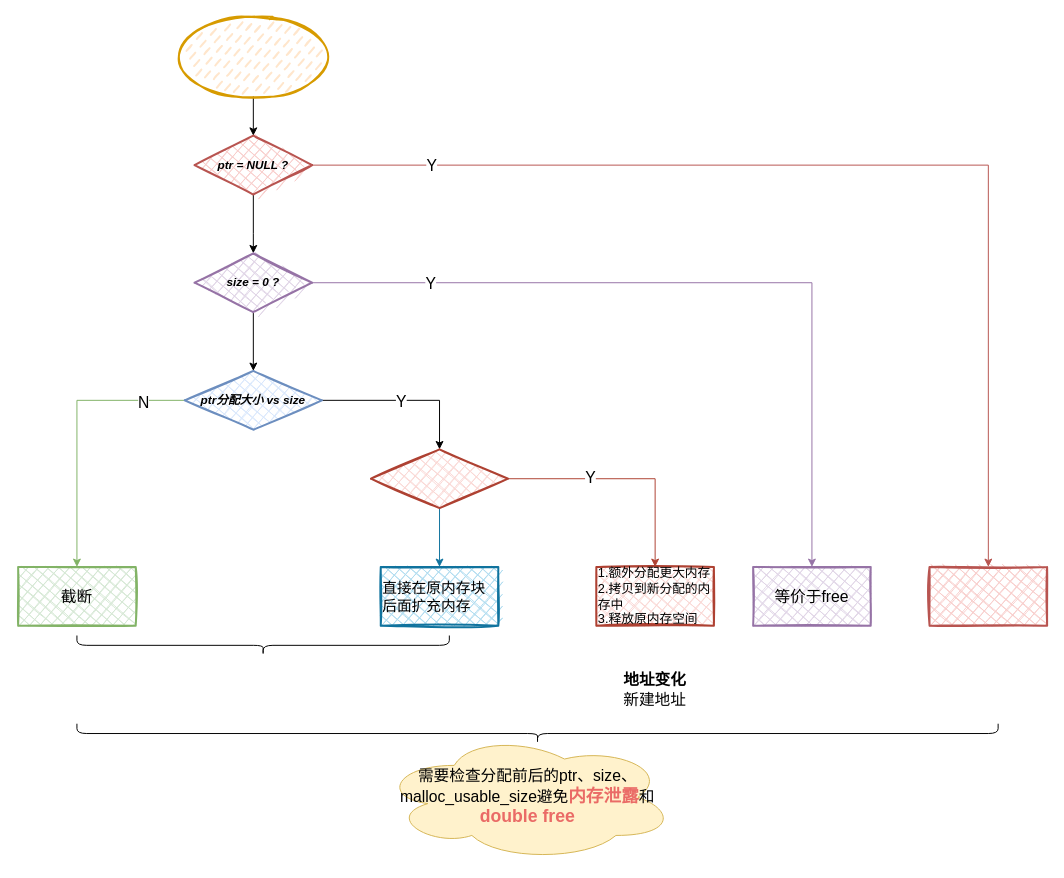
The diagram is 1064 pixels wide and 878 high, and some of its shapes have lost their labels. The centre of each missing label's shape, as x and y in pixels:
"ptr分配大小 vs malloc_usable_size" goes at point 439,478.
"void* realloc(ptr, size)" goes at point 252,57.
"地址不变 在原地址上修改" goes at point 262,645.
"等价于malloc" goes at point 988,595.
